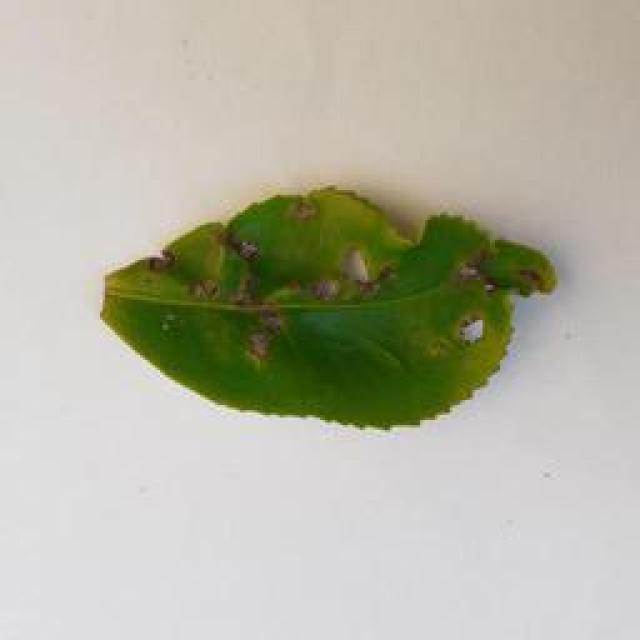Helopeltis: (95, 192, 578, 440)
